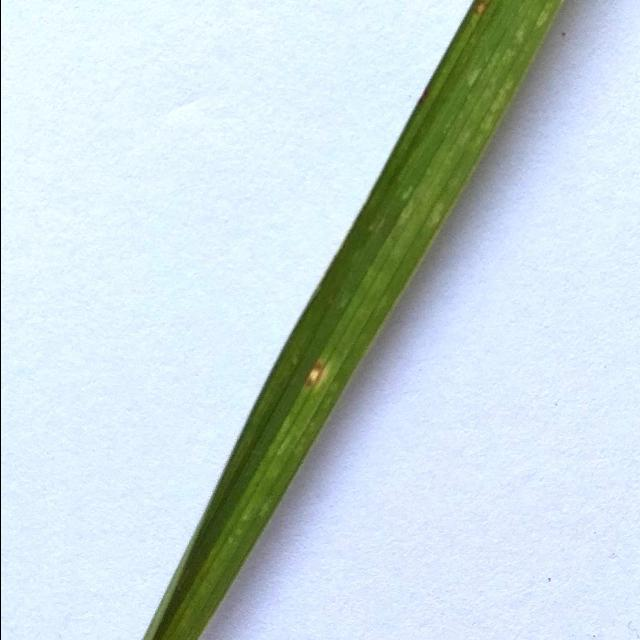Leaf blast: (128, 0, 578, 640)
